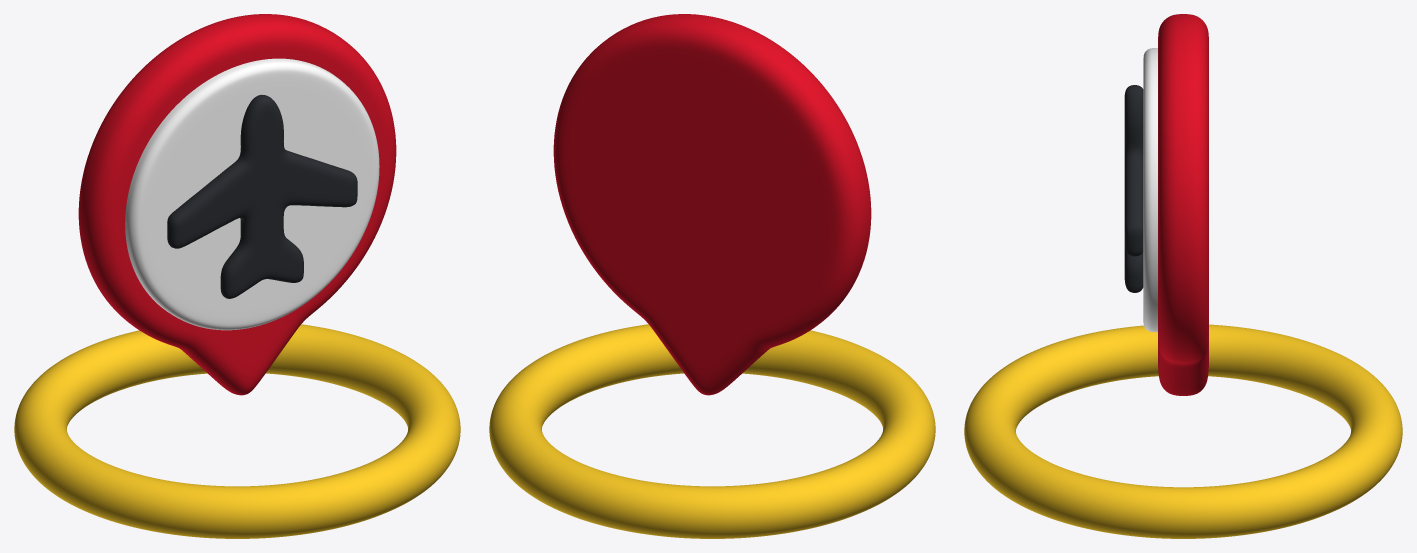
Rendered from airport.glb.
The picture shows the model from 3 angles, left to right: view 1: azimuth 30°, elevation 25°; view 2: azimuth 150°, elevation 25°; view 3: azimuth 270°, elevation 25°; orthographic projection.
Parts seen in each view (by area): view 1: Torus.001, Cylinder.001, Circle.001, Curve.002; view 2: Circle.001, Torus.001; view 3: Torus.001, Circle.001, Cylinder.001, Curve.002.
Boxes of the visible parts, x1,y1,x2,y2 form: Torus.001: [14, 324, 460, 538]; Cylinder.001: [125, 58, 379, 330]; Circle.001: [78, 14, 396, 395]; Curve.002: [167, 94, 357, 298]; Circle.001: [553, 14, 871, 395]; Torus.001: [489, 324, 935, 538]; Torus.001: [964, 324, 1402, 538]; Circle.001: [1158, 14, 1208, 395]; Cylinder.001: [1143, 48, 1157, 332]; Curve.002: [1124, 85, 1143, 292].
Bounding box in the file's own units: 4.29 × 4.59 × 4.29.
